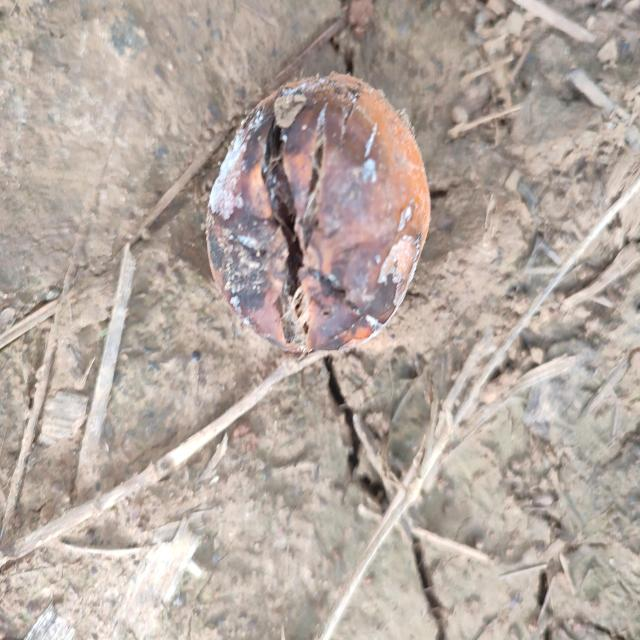damaged: (202, 73, 431, 357)
